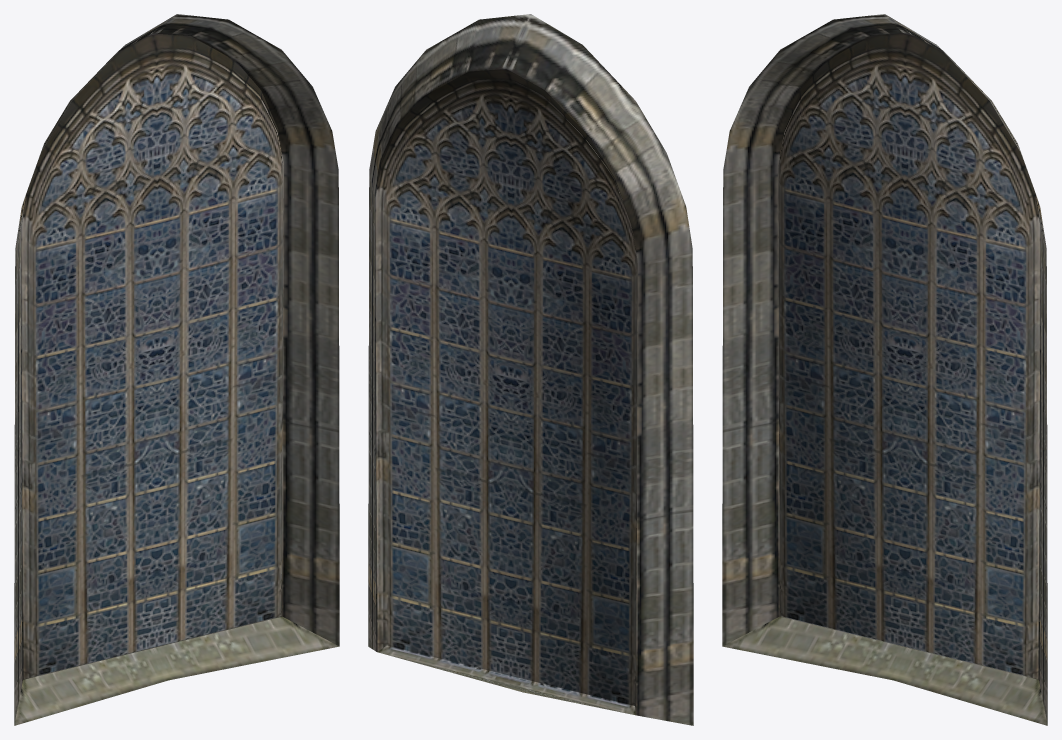
File: DN_1_4_Window03.FBX
The picture shows the model from 3 angles, left to right: view 1: azimuth 30°, elevation 25°; view 2: azimuth 150°, elevation 25°; view 3: azimuth 330°, elevation 25°; orthographic projection.
Visible parts, largest first — view 1: DN_1_4_Window03; view 2: DN_1_4_Window03; view 3: DN_1_4_Window03.
Boxes of the visible parts, x1,y1,x2,y2 form: DN_1_4_Window03: [14, 14, 339, 725]; DN_1_4_Window03: [368, 14, 693, 725]; DN_1_4_Window03: [722, 14, 1047, 725].
Bounding box in the file's own units: 280 × 553 × 36.16.
